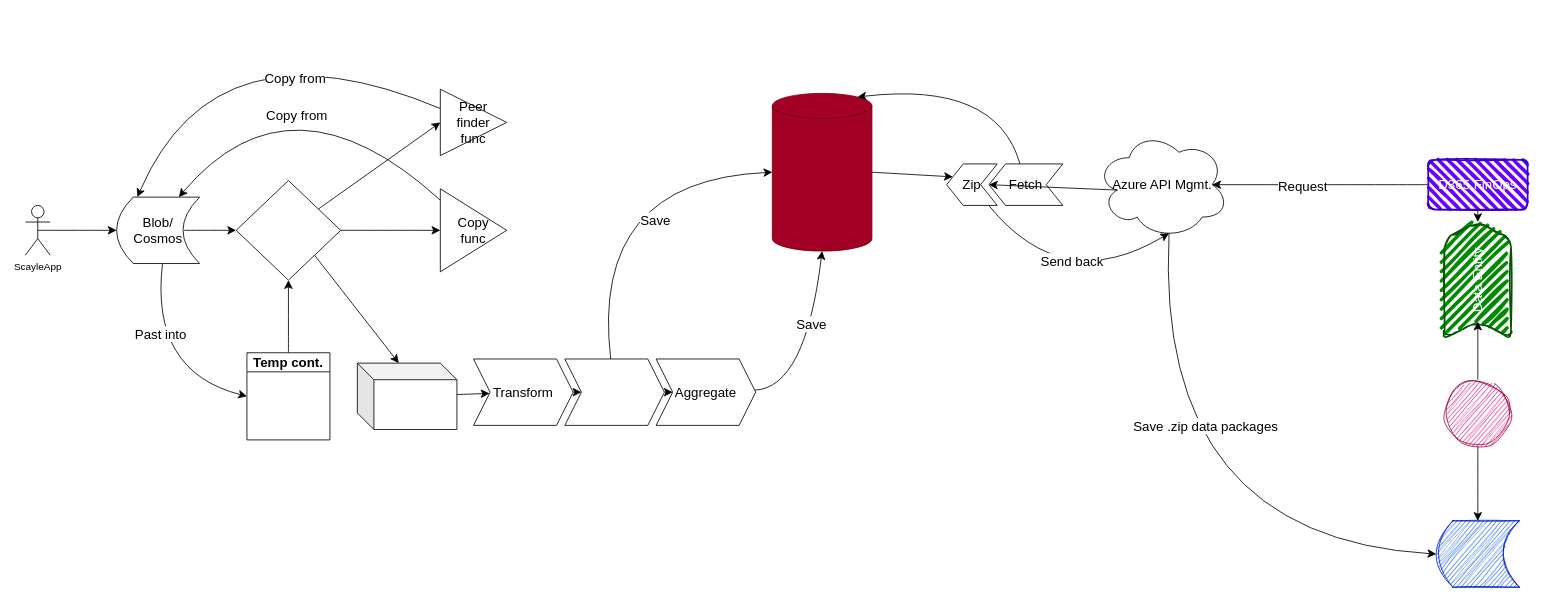
The diagram is 1543 pixels wide and 602 high, and some of its shapes have lost their labels. Each missing label, with the centre of its shape:
Azure SQL: the point at 821,172
Blob: the point at 1477,553
Data Bricks: the point at 406,396
Orchestrator LogicApp: the point at 288,230
Reconcile: the point at 614,391
Recurring Integ.: the point at 1477,412
